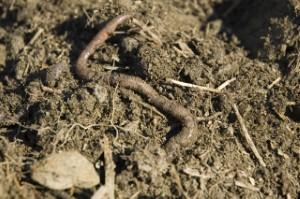earthworms: (66, 7, 197, 161)
